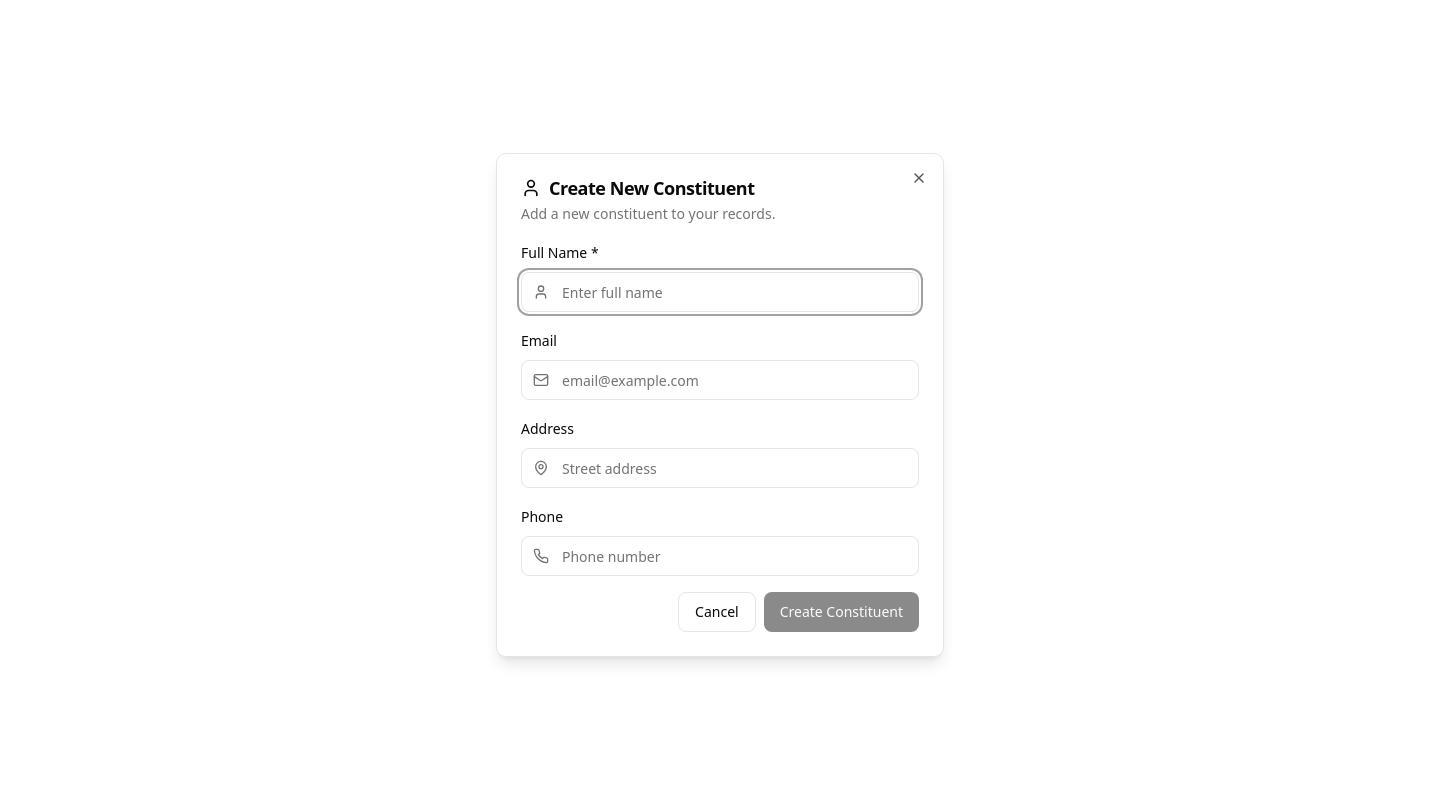
Test: CreateConstituentDialog › enables submit button when name is provided
Type "Jane Doe" into the field labelled "Full Name *" at (720, 292), box left=521, top=272, right=919, bottom=312
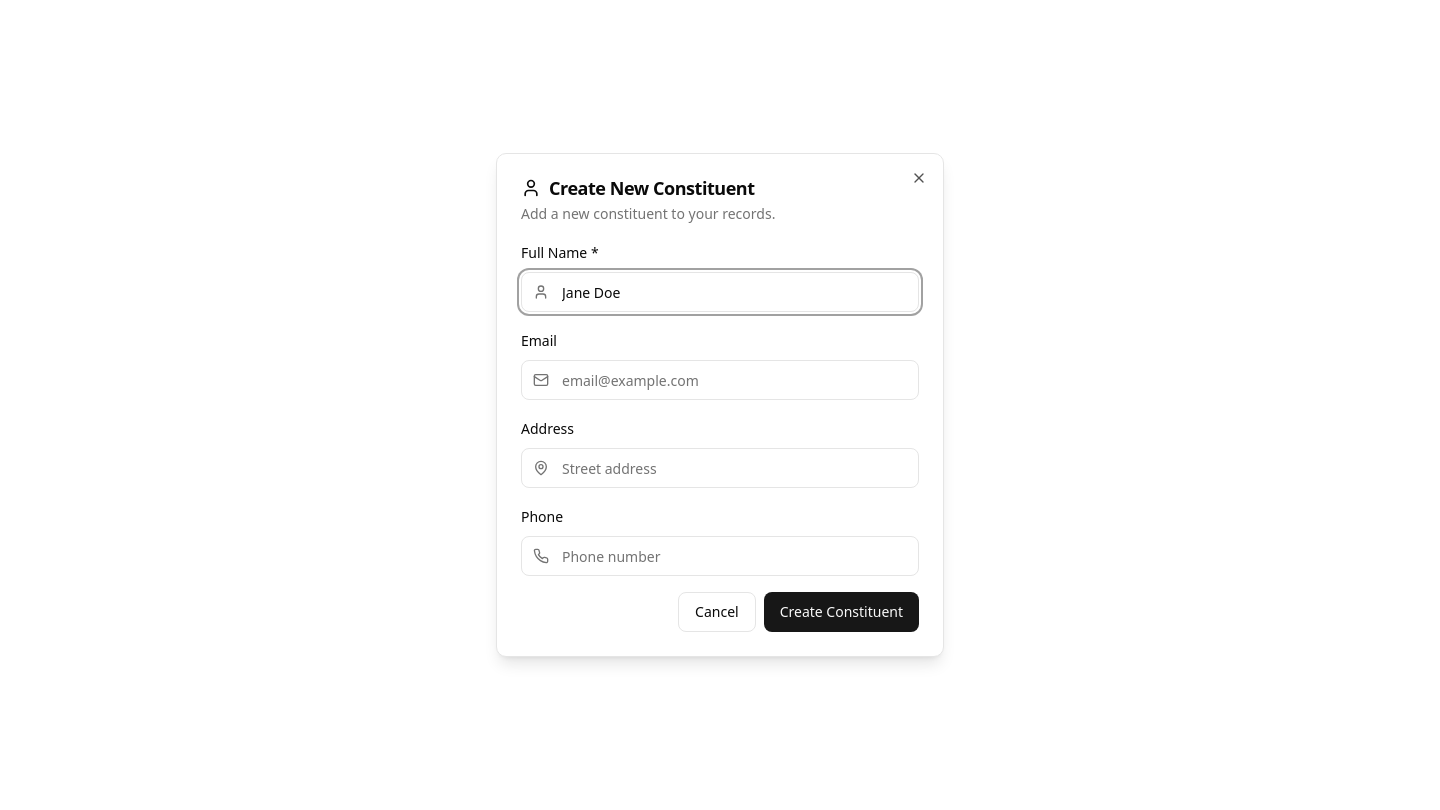
Now the button "Create Constituent" is enabled, box left=764, top=592, right=919, bottom=632
